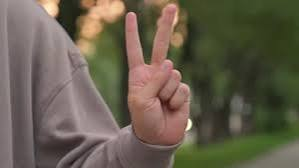peace_sign: (114, 3, 193, 142)
